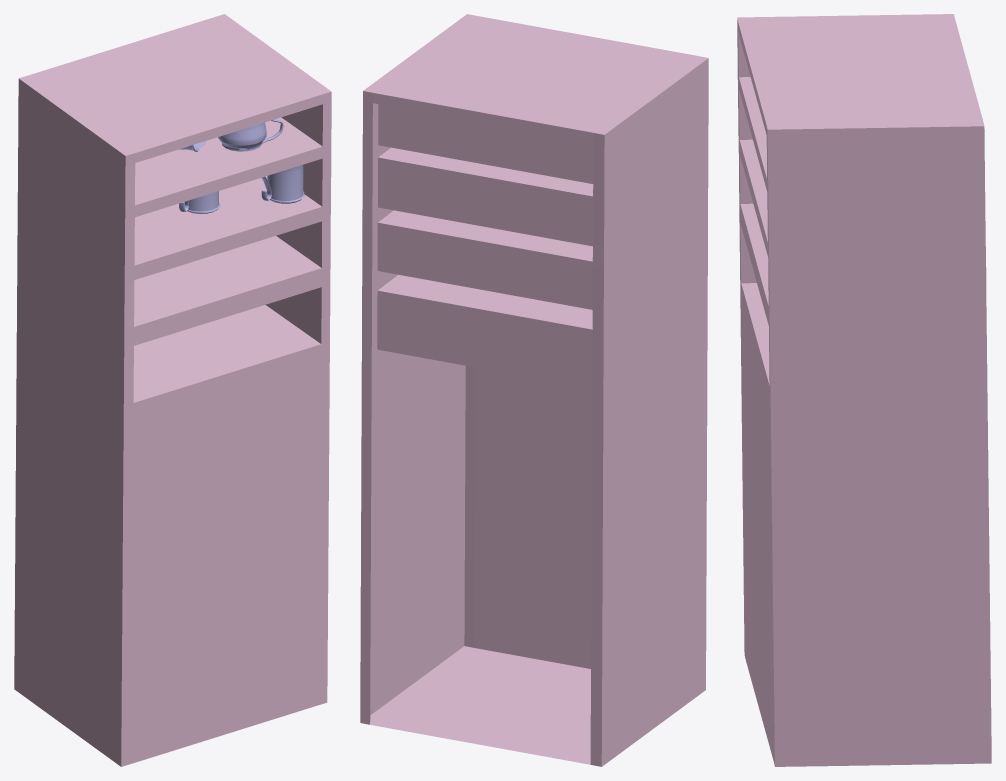
The model's file is guizi2.fbx.
The picture shows the model from 3 angles, left to right: view 1: azimuth 30°, elevation 25°; view 2: azimuth 150°, elevation 25°; view 3: azimuth 270°, elevation 25°; orthographic projection. The views are drawn at different scales.
Parts seen in each view (by area): view 1: pCube255; view 2: pCube255; view 3: pCube255.
Part boxes in pixels (x1,y1,x2,y2): pCube255: (14,14,331,766); pCube255: (360,14,708,766); pCube255: (737,14,991,766).
Bounding box in the file's own units: 3.07 × 8.04 × 2.9.
